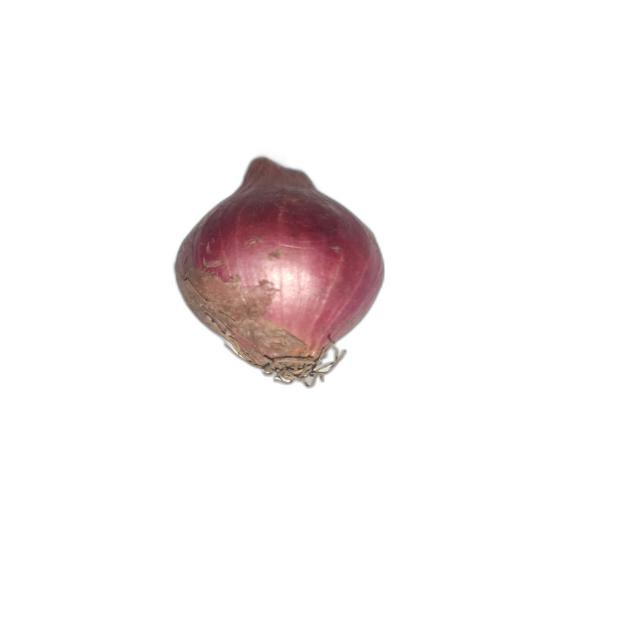onion: (173, 156, 386, 388)
